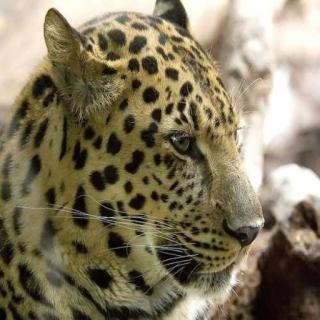Leopard: (7, 4, 301, 320)
